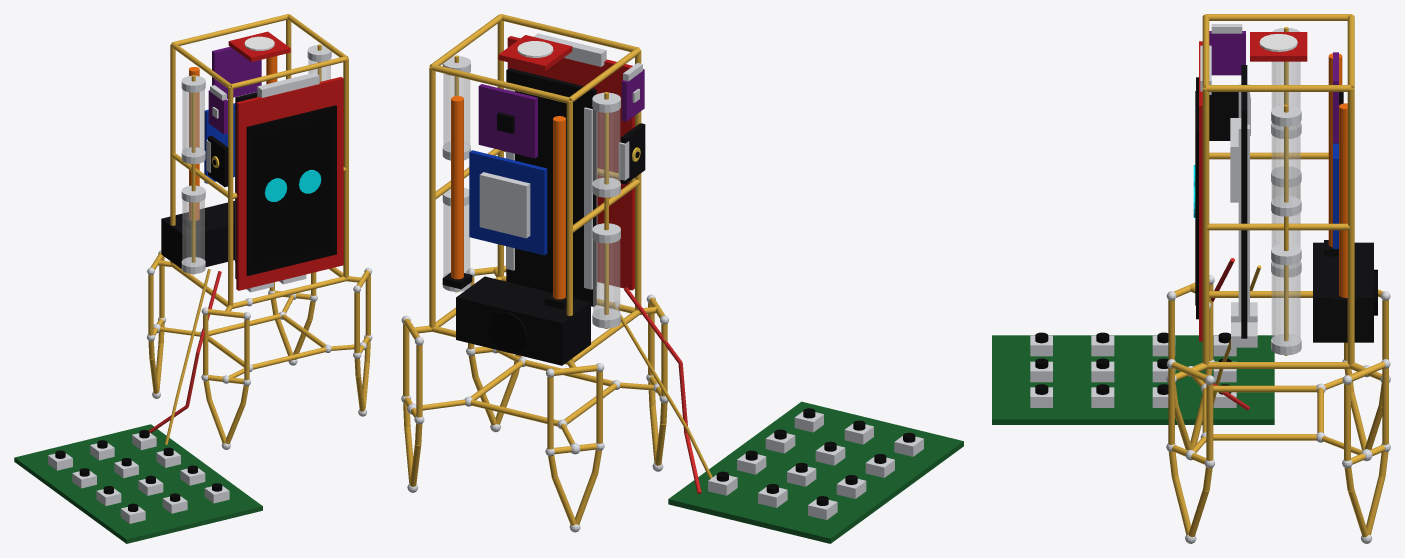
File: Decor_Station_Model.obj
3 views of the same model, side by side, from view 1: azimuth 30°, elevation 25°; view 2: azimuth 150°, elevation 25°; view 3: azimuth 270°, elevation 25° (orthographic). The views are drawn at different scales.
Visible parts, largest first — view 1: Keypad_Perfboard, ST7789_ScreenGlass, ST7789_PCB, ST7789_Border, Speaker_Box, MAX98357A_PCB, Edison_Tube_Top_L, Edison_Tube_Bot_L, Chassis_Corner_0_0, Chassis_Corner_1_0, Chassis_Corner_0_1, TTP223_PCB (+13 smaller); view 2: Keypad_Perfboard, ESP32S3_PCB, Speaker_Box, ST7789_PCB, MicroSD_PCB, MAX98357A_PCB, MicroSD_Socket, COB_Strip_R, COB_Strip_L, Edison_Tube_Bot_L, Edison_Tube_Top_L, ESP32S3_PinHeader_L (+13 smaller); view 3: Keypad_Perfboard, Speaker_Box, Edison_Tube_Bot_R, Edison_Tube_Top_R, Chassis_Corner_1_0, Chassis_Corner_1_1, ESP32S3_PCB, COB_Strip_R, SHT31_PCB, ESP32S3_PinHeader_R, INMP441_PCB, TTP223_PCB (+30 smaller).
Boxes of the visible parts, <box> form: Keypad_Perfboard: <box>14,424,262,543</box>; ST7789_ScreenGlass: <box>253,115,331,266</box>; ST7789_PCB: <box>236,77,343,290</box>; ST7789_Border: <box>246,105,336,275</box>; Speaker_Box: <box>161,201,234,268</box>; MAX98357A_PCB: <box>212,46,261,98</box>; Edison_Tube_Top_L: <box>182,89,204,156</box>; Edison_Tube_Bot_L: <box>182,199,204,266</box>; Chassis_Corner_0_0: <box>228,87,233,306</box>; Chassis_Corner_1_0: <box>343,58,348,278</box>; Chassis_Corner_0_1: <box>170,44,175,264</box>; TTP223_PCB: <box>228,31,290,61</box>; Keypad_Perfboard: <box>668,401,963,543</box>; ESP32S3_PCB: <box>506,68,596,306</box>; Speaker_Box: <box>456,276,590,365</box>; ST7789_PCB: <box>507,36,634,290</box>; MicroSD_PCB: <box>469,150,547,255</box>; MAX98357A_PCB: <box>478,84,537,158</box>; MicroSD_Socket: <box>479,172,530,238</box>; COB_Strip_R: <box>451,96,463,279</box>; COB_Strip_L: <box>553,116,565,299</box>; Edison_Tube_Bot_L: <box>593,239,620,319</box>; Edison_Tube_Top_L: <box>593,109,620,188</box>; ESP32S3_PinHeader_L: <box>584,107,597,289</box>; Keypad_Perfboard: <box>992,335,1274,424</box>; Speaker_Box: <box>1313,242,1373,342</box>; Edison_Tube_Bot_R: <box>1271,261,1300,345</box>; Edison_Tube_Top_R: <box>1271,122,1300,207</box>; Chassis_Corner_1_0: <box>1202,88,1209,365</box>; Chassis_Corner_1_1: <box>1347,88,1354,365</box>; ESP32S3_PCB: <box>1241,65,1247,338</box>; COB_Strip_R: <box>1339,103,1347,297</box>; SHT31_PCB: <box>1209,31,1245,75</box>; ESP32S3_PinHeader_R: <box>1238,124,1249,319</box>; INMP441_PCB: <box>1209,92,1238,140</box>; TTP223_PCB: <box>1250,32,1307,61</box>.
Size of what is drawn, in the model's own units: 0.1264 by 0.1327 by 0.1044.
